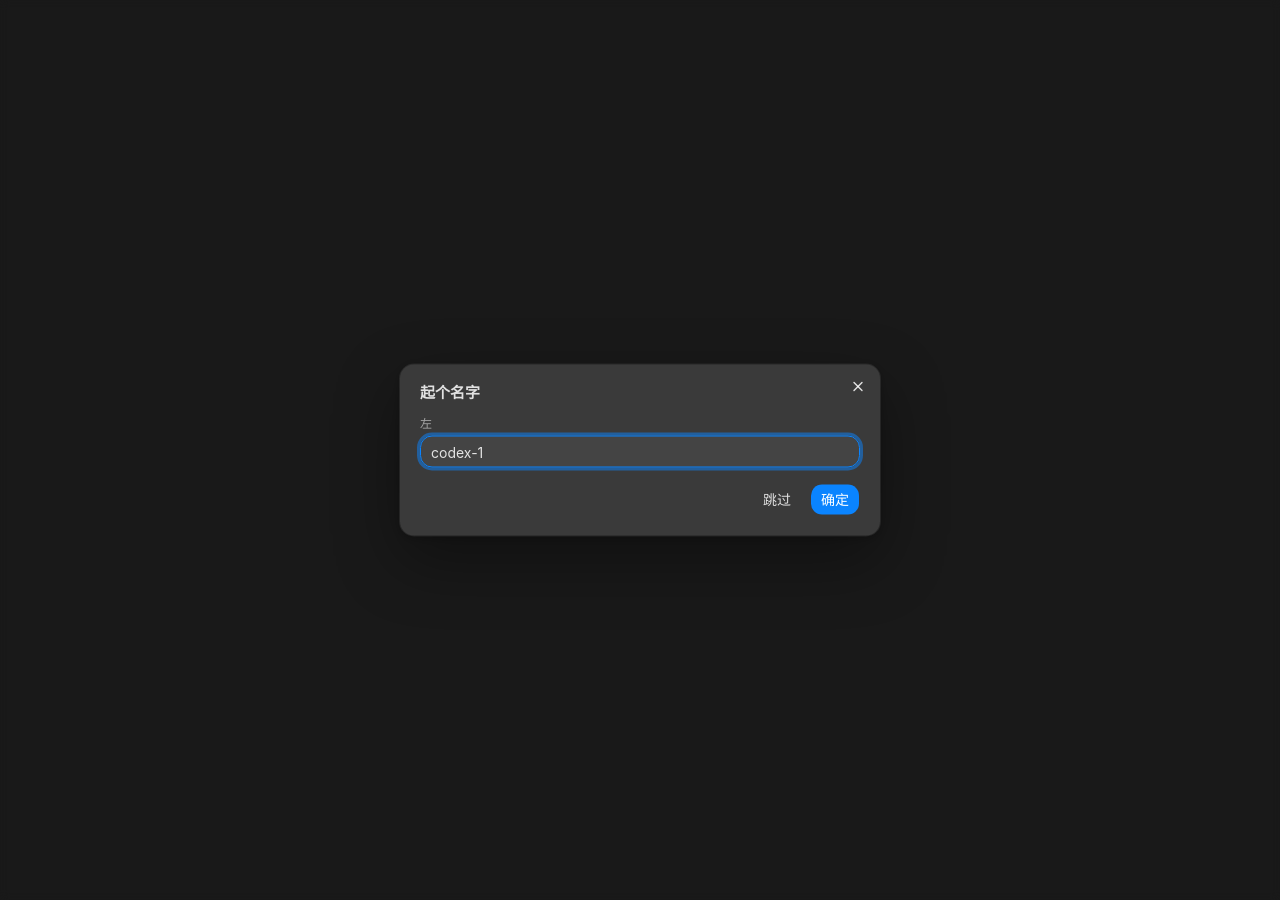
起名对话框 › 形状不合法的也拦在对话框里，不等保存被拒才知道
Replace the text in the field labelled "左" with "有空格 的" at [640, 452], box [420,436,860,468]
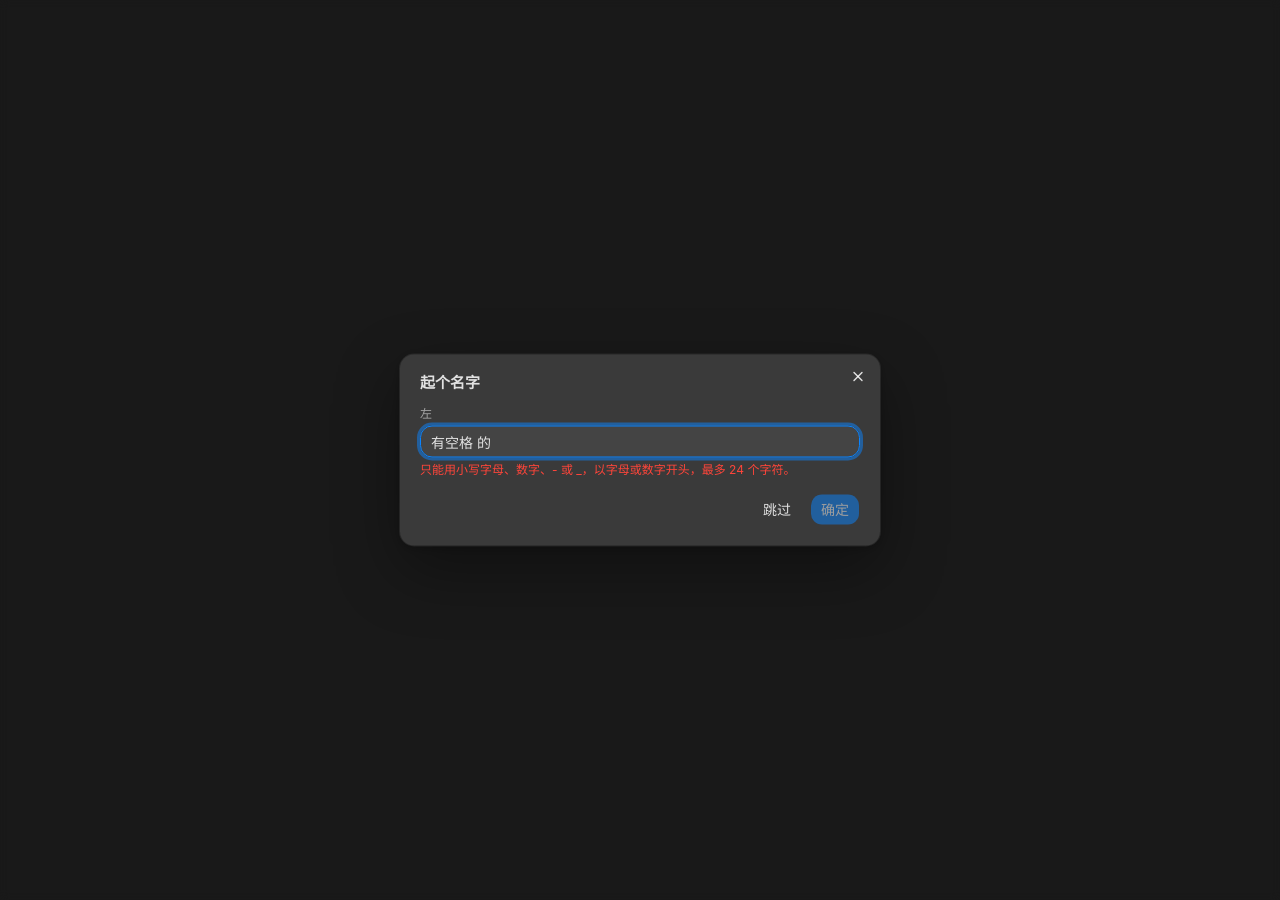
Expected: the button "确定" is disabled, [810,494,860,526]
